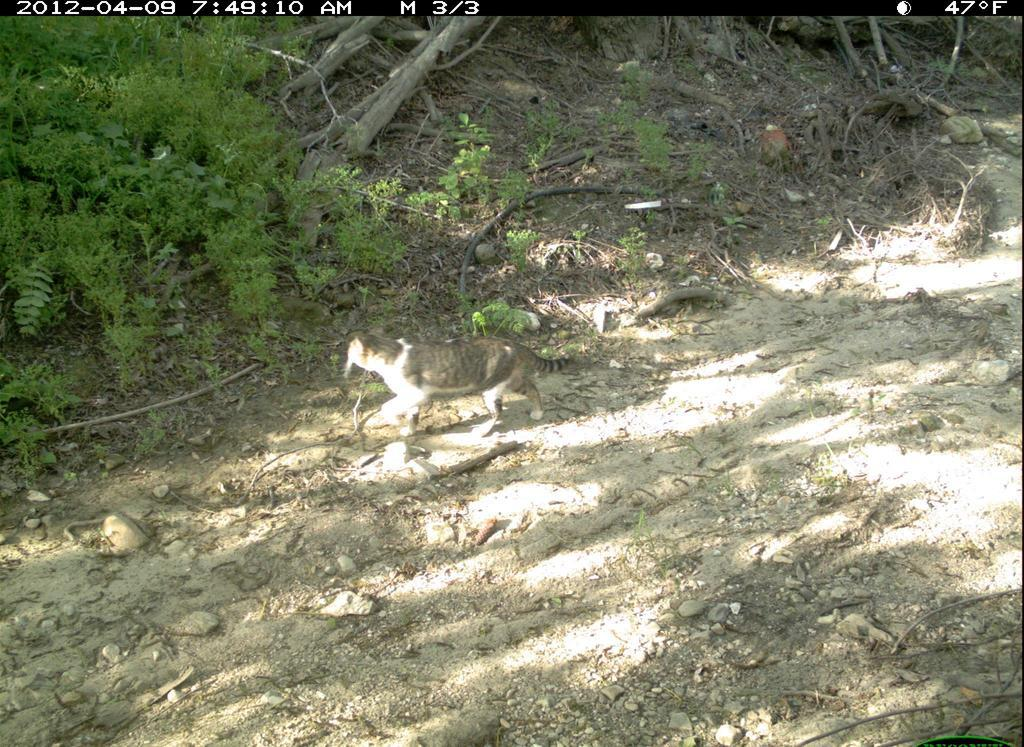cat: (344, 309, 575, 442)
